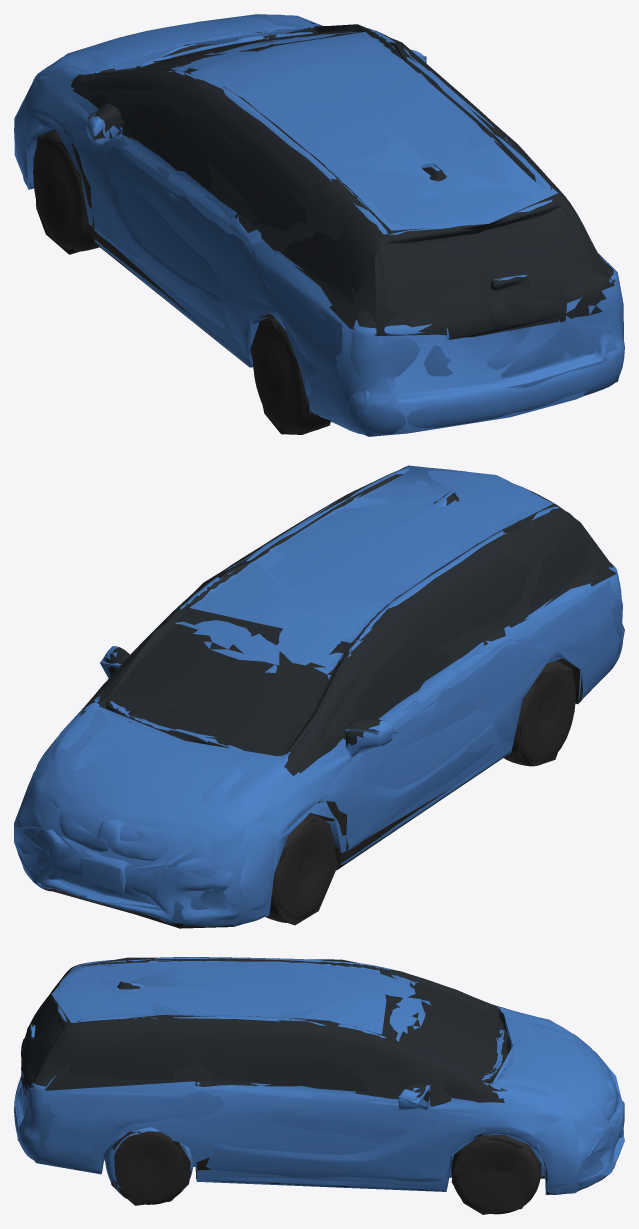
The model's file is honda-odyssey.glb.
3 renders of one model, top to bottom at view 1: azimuth 30°, elevation 25°; view 2: azimuth 150°, elevation 25°; view 3: azimuth 270°, elevation 25°, orthographic. The views are drawn at different scales.
Parts seen in each view (by area): view 1: body, far; view 2: body, far; view 3: body, far.
Boxes of the visible parts, x1,y1,x2,y2 form: body: (14, 14, 624, 435); far: (14, 14, 623, 436); body: (15, 468, 623, 926); far: (14, 465, 624, 928); body: (14, 957, 624, 1214); far: (14, 957, 624, 1214).
Size of the model in its own units: 2.31 by 1.69 by 5.26.
